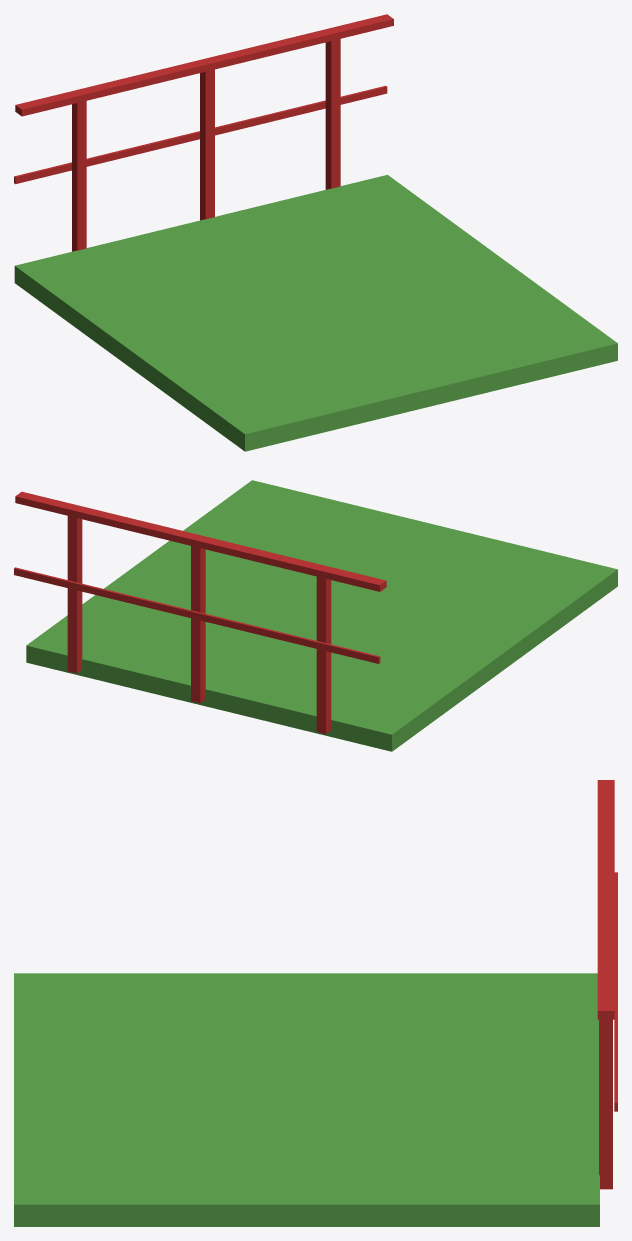
Rendered from Bridge_SinglePlaneWithRailing.fbx.
3 renders of one model, top to bottom at view 1: azimuth 30°, elevation 25°; view 2: azimuth 150°, elevation 25°; view 3: azimuth 270°, elevation 25°, orthographic. The views are drawn at different scales.
Visible parts, largest first — view 1: Bridge_SinglePlaneWithRailing; view 2: Bridge_SinglePlaneWithRailing; view 3: Bridge_SinglePlaneWithRailing.
Part boxes in pixels (bbox=[...]): Bridge_SinglePlaneWithRailing: bbox=[14, 14, 617, 451]; Bridge_SinglePlaneWithRailing: bbox=[14, 480, 617, 751]; Bridge_SinglePlaneWithRailing: bbox=[14, 780, 617, 1226].
Size of the model in its own units: 283 by 123 by 308.
